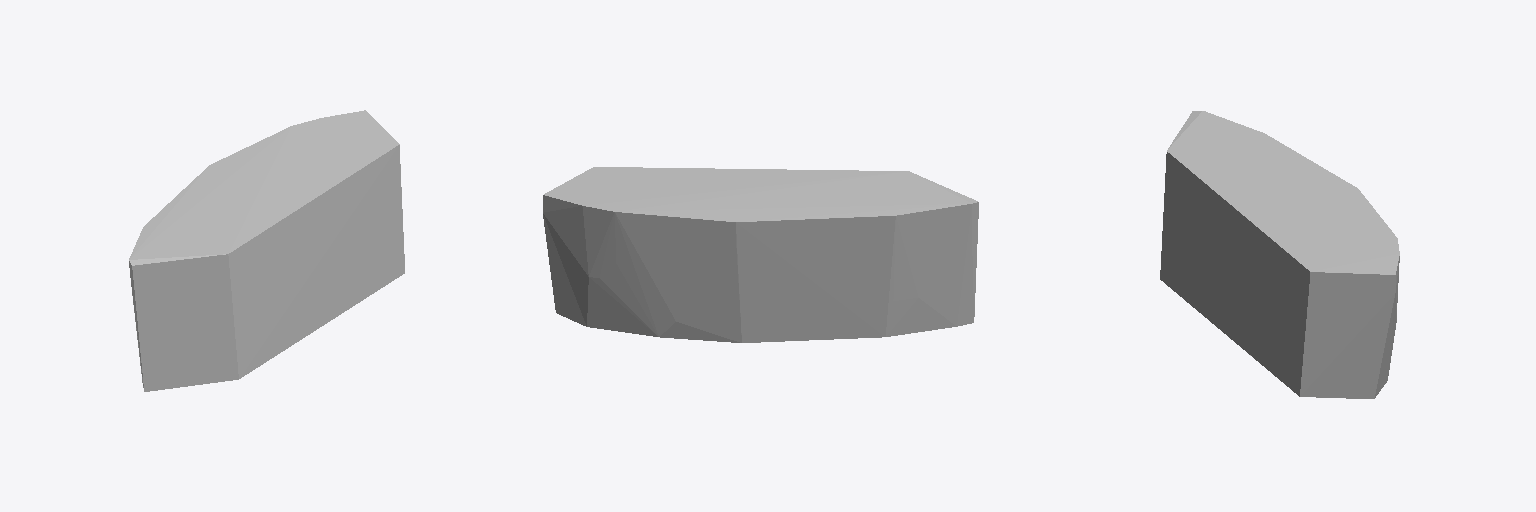
The model's file is trash_bin_collision_9.obj.
3 renders of one model, left to right at view 1: azimuth 30°, elevation 25°; view 2: azimuth 150°, elevation 25°; view 3: azimuth 270°, elevation 25°, orthographic.
Size of the model in its own units: 0.0691 by 0.0255 by 0.0429.